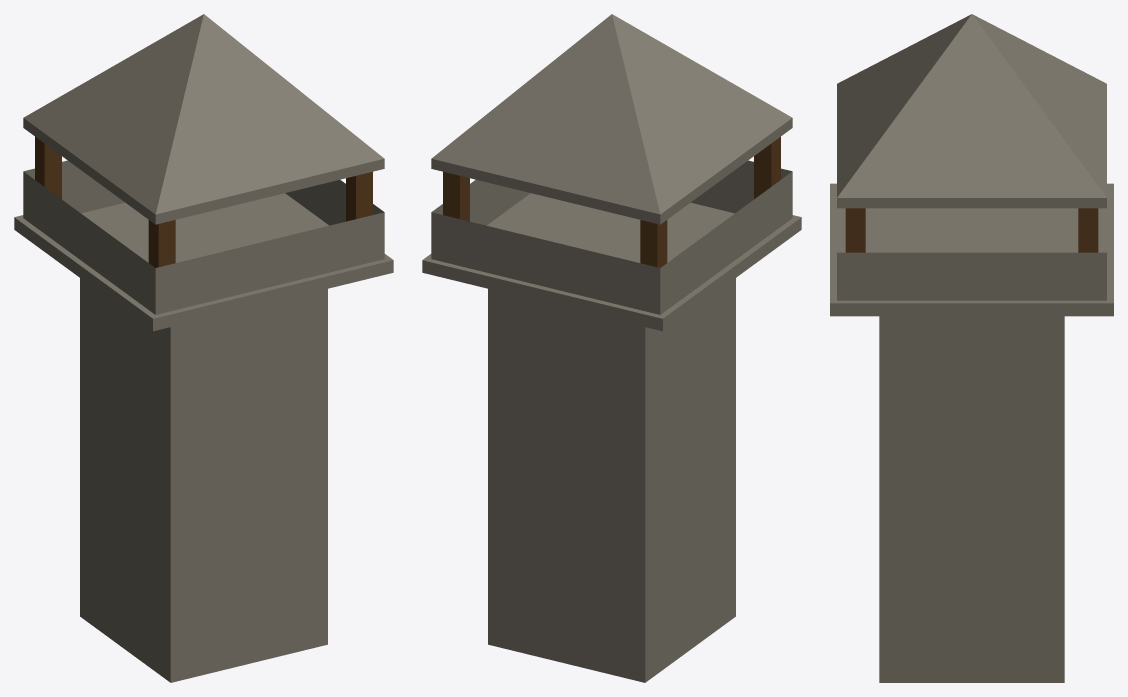
File: ArcherTower.glb
The picture shows the model from 3 angles, left to right: view 1: azimuth 30°, elevation 25°; view 2: azimuth 150°, elevation 25°; view 3: azimuth 270°, elevation 25°; orthographic projection. The views are drawn at different scales.
Visible parts, largest first — view 1: Cube, Cube.002; view 2: Cube, Cube.002; view 3: Cube, Cube.002.
Part boxes in pixels (<box>): Cube: <box>14,14,393,682</box>; Cube.002: <box>35,136,372,267</box>; Cube: <box>422,14,801,682</box>; Cube.002: <box>443,136,780,267</box>; Cube: <box>830,14,1113,682</box>; Cube.002: <box>845,208,1098,252</box>.
Size of the model in its own units: 11.24 by 27.53 by 11.24.
2 materials, 2 textured.
